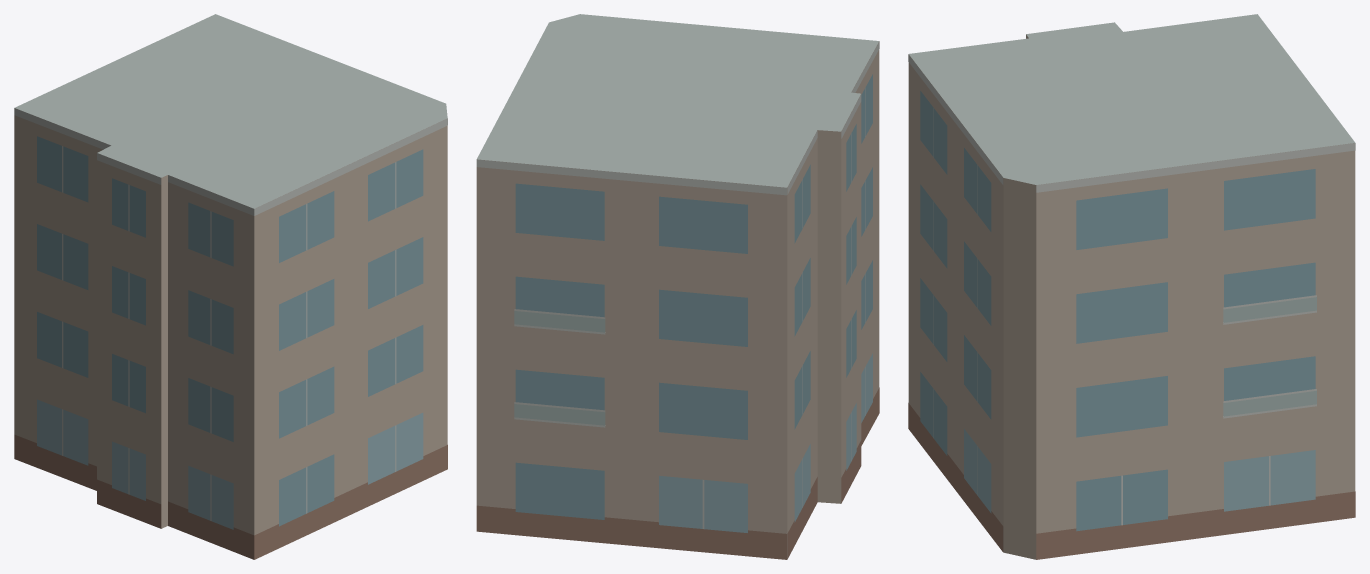
Rendered from survey-upis-32757788.glb.
The picture shows the model from 3 angles, left to right: view 1: azimuth 30°, elevation 25°; view 2: azimuth 150°, elevation 25°; view 3: azimuth 270°, elevation 25°; orthographic projection. The views are drawn at different scales.
Parts seen in each view (by area): view 1: survey-upis-32757788.tmp; view 2: survey-upis-32757788.tmp; view 3: survey-upis-32757788.tmp.
Boxes of the visible parts, x1,y1,x2,y2 form: survey-upis-32757788.tmp: (14, 14, 447, 559); survey-upis-32757788.tmp: (476, 14, 879, 559); survey-upis-32757788.tmp: (908, 14, 1355, 559).
Size of the model in its own units: 11.56 by 11.8 by 12.77.
